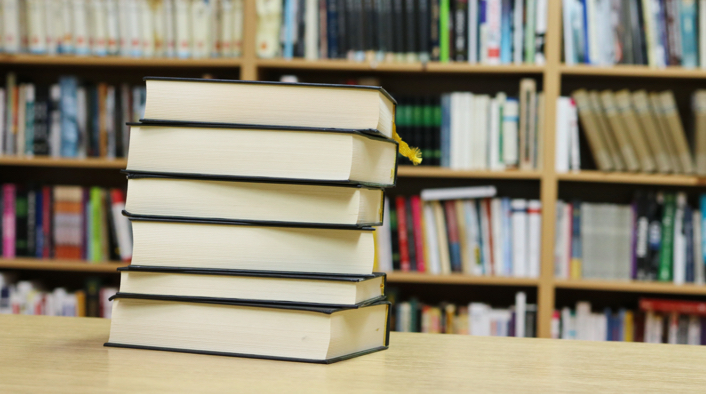book: (104, 292, 393, 366), (119, 119, 399, 190), (137, 73, 397, 140), (122, 215, 377, 277), (120, 174, 388, 230), (112, 263, 390, 311)
